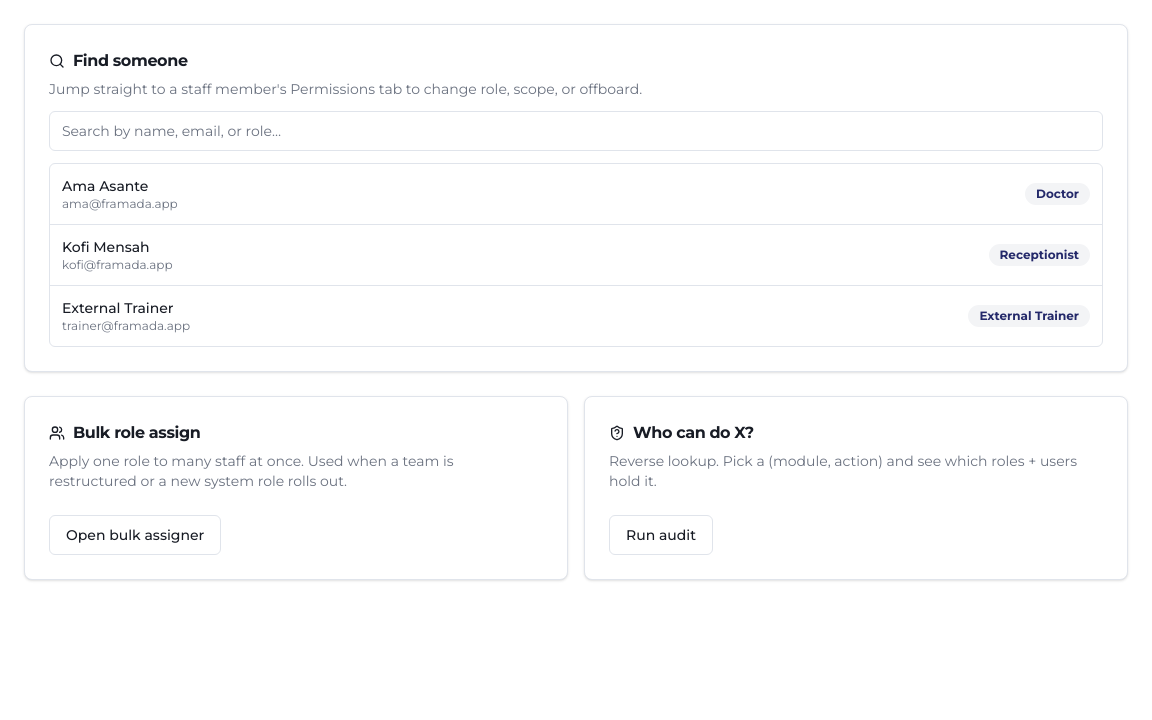
Scenario: AccessManagementOverviewPage — search filtering › shows "No staff match" when search has no results
This screenshot has width=1152, height=720.
Expected: the text "Ama Asante" is shown, [62,177,148,195]
Type "zzz-nobody-zzz" into the field with placeholder "Search by name, email, or role…" at (576, 131), box [49,111,1103,151]
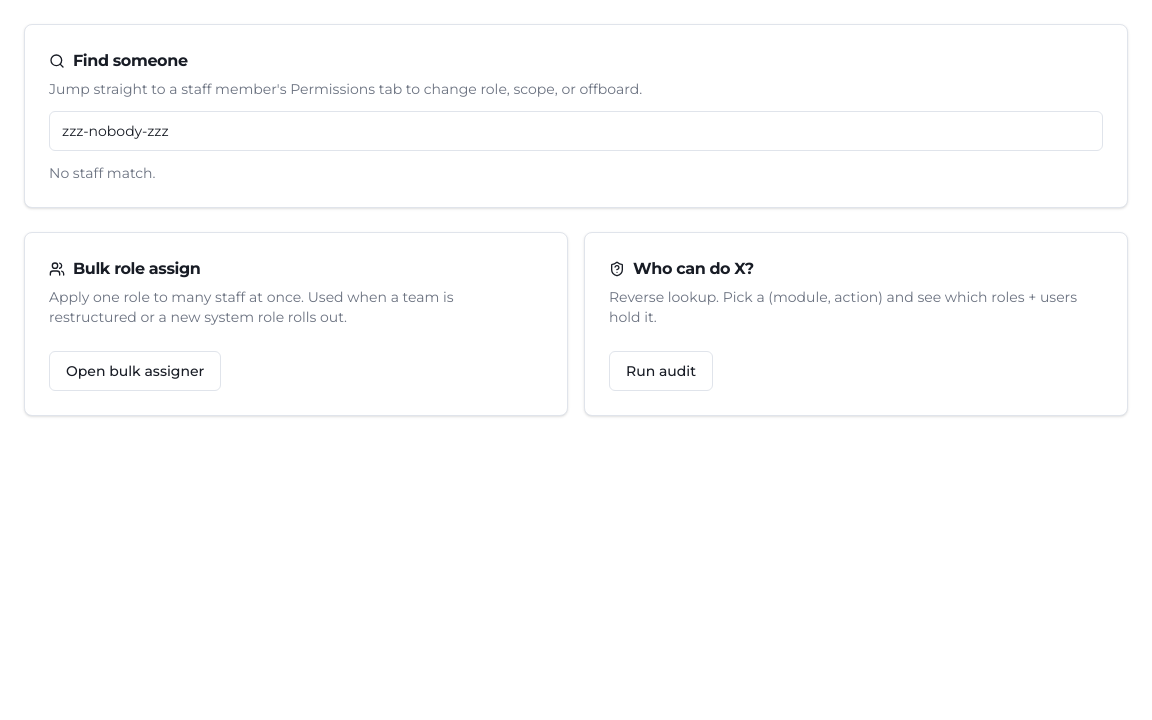
Expected: the text "No staff match." is shown, [49,164,156,182]
